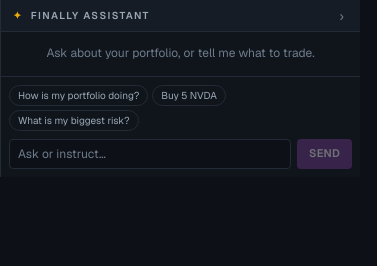
ChatPanel round trip › translates a 404 from the chat endpoint into a plain-language notice
Type "hello" into the field named "Message the AI assistant" at [150, 154], box x1=9 y1=138 x2=291 y2=168
Then press Enter
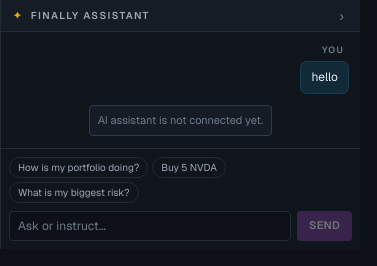
Expected: the text "AI assistant is not connected yet." is shown, x1=89 y1=105 x2=272 y2=136
